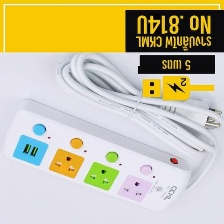three_eye_plug: (0, 93, 198, 216)
